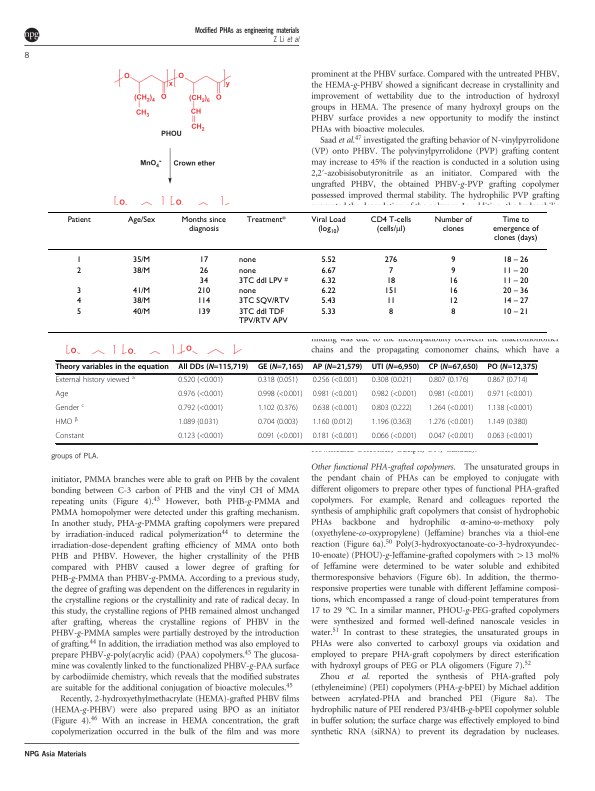borderless: (47, 210, 547, 332), (54, 359, 537, 443)
cell: (491, 214, 539, 243), (55, 363, 170, 372), (54, 374, 136, 386), (238, 306, 288, 325), (369, 213, 412, 235), (180, 214, 226, 233), (310, 214, 346, 235), (433, 214, 472, 233), (177, 363, 249, 372), (238, 296, 290, 306), (238, 275, 288, 285), (177, 376, 224, 386), (177, 390, 224, 400), (486, 390, 533, 400), (177, 404, 224, 414), (486, 404, 533, 414), (177, 432, 224, 442), (486, 432, 533, 442), (486, 363, 538, 372), (312, 376, 358, 386), (257, 390, 303, 400), (312, 390, 358, 400), (371, 390, 417, 400), (428, 390, 474, 400), (312, 404, 358, 414), (428, 404, 474, 414), (428, 418, 474, 428), (257, 432, 303, 442), (312, 432, 358, 442), (371, 432, 417, 442), (428, 432, 474, 442), (312, 363, 363, 372), (428, 363, 479, 372), (371, 363, 420, 372), (257, 363, 304, 372), (257, 376, 299, 386), (371, 376, 413, 386), (428, 376, 470, 386), (486, 376, 528, 386), (257, 404, 299, 414), (371, 404, 413, 414), (177, 418, 219, 428), (257, 418, 299, 428), (371, 418, 413, 428), (486, 418, 528, 428), (312, 418, 353, 428), (245, 214, 286, 224), (55, 402, 85, 414), (55, 432, 85, 442), (126, 214, 156, 224), (55, 416, 79, 428), (502, 255, 529, 265), (502, 265, 529, 275), (502, 286, 529, 296), (502, 296, 529, 306), (502, 306, 529, 316), (66, 214, 91, 224), (502, 276, 529, 285), (132, 255, 151, 265), (132, 265, 151, 275), (132, 286, 151, 296), (132, 296, 151, 306), (132, 306, 151, 316), (238, 255, 256, 265), (238, 265, 256, 275), (238, 286, 256, 296), (320, 255, 336, 265), (320, 265, 336, 275), (320, 286, 336, 296), (320, 296, 336, 306), (320, 306, 336, 316), (383, 255, 398, 265), (196, 286, 211, 296), (383, 286, 398, 296), (196, 296, 211, 306), (196, 306, 211, 316), (320, 276, 336, 285), (55, 390, 69, 400), (198, 255, 209, 265), (198, 265, 209, 275), (385, 296, 396, 306), (448, 286, 458, 296), (448, 296, 458, 306), (198, 276, 209, 285), (385, 276, 396, 285), (448, 276, 458, 285), (387, 265, 394, 275), (387, 306, 394, 316), (76, 255, 82, 265), (450, 255, 456, 265), (76, 265, 82, 275), (450, 265, 456, 275), (76, 286, 82, 296), (76, 296, 82, 306), (76, 306, 82, 316), (450, 306, 456, 316)
